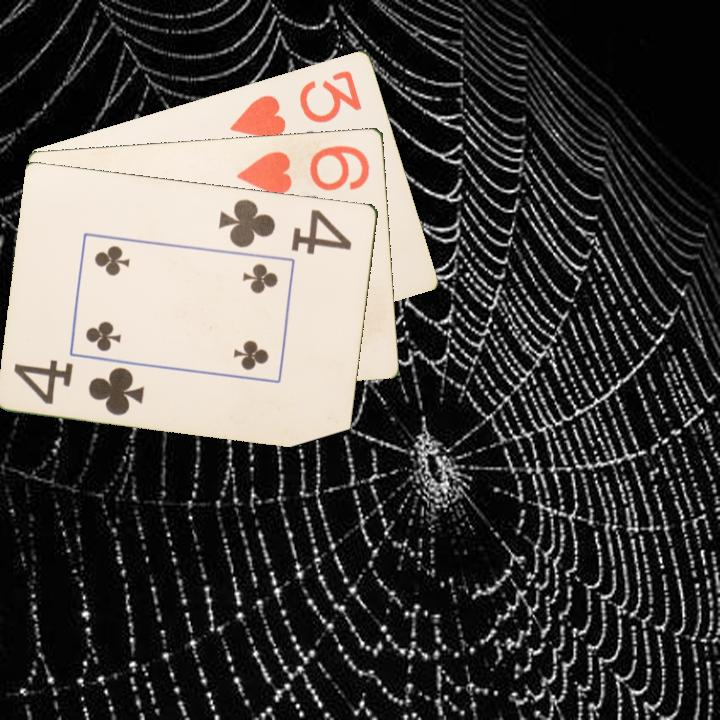3h: (226, 66, 365, 141)
4c: (216, 195, 356, 257), (11, 356, 148, 418)
6h: (233, 139, 373, 196)
